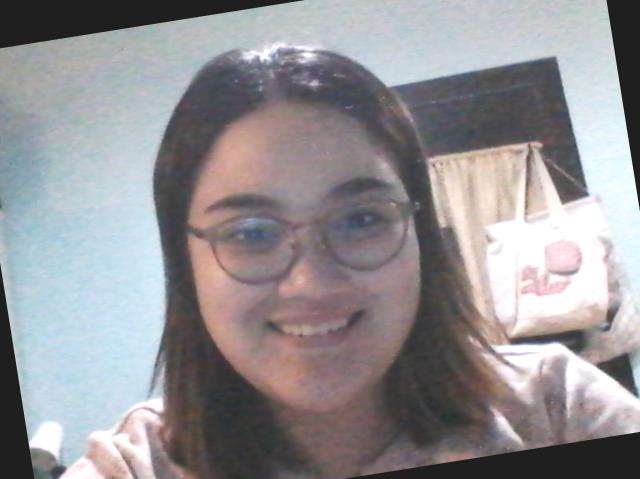senang: (162, 75, 458, 428)
